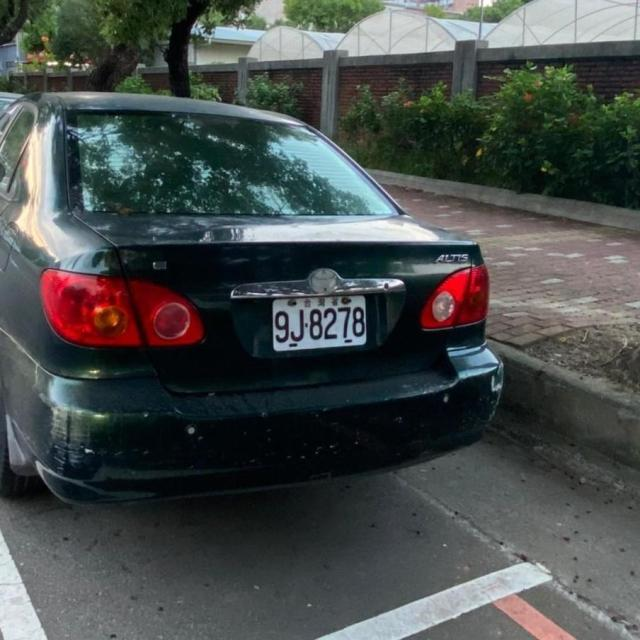W: (263, 287, 378, 357)
